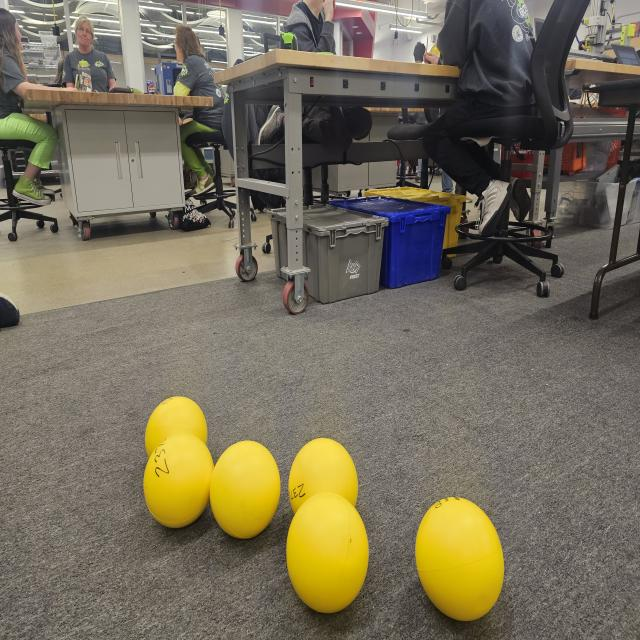Fuel: (416, 496, 505, 621), (286, 493, 369, 610), (210, 440, 280, 538), (144, 436, 214, 526), (289, 440, 358, 524), (146, 396, 207, 463)
